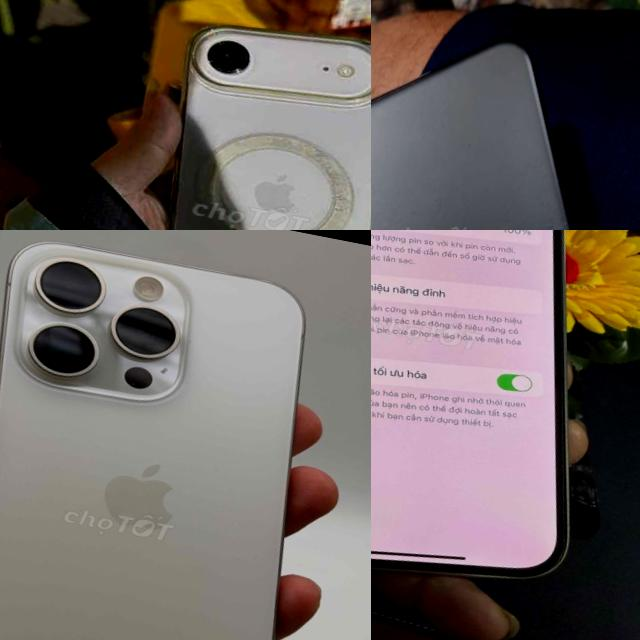gen_11: (371, 42, 570, 230)
gen_14: (371, 230, 640, 615)
gen_15: (0, 230, 367, 640)
gen_17: (128, 2, 371, 230)
